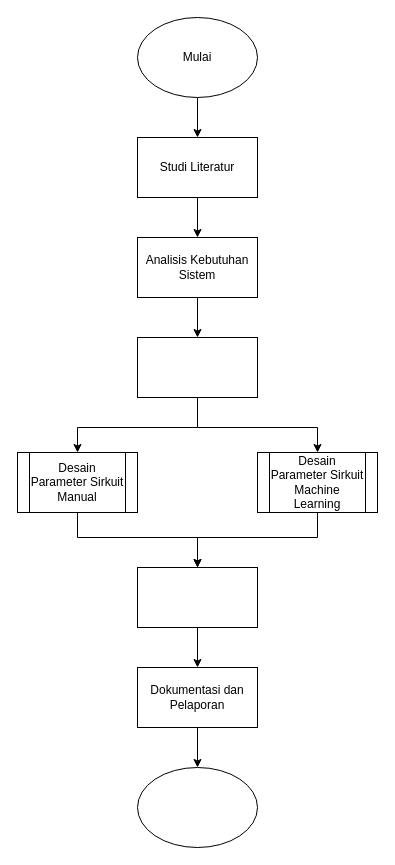
Some shapes in this 395 by 865 pixel diagram are drawn without their labels. Each missing label, with the centre of its shape:
Desain Parameter Sirkuit: point (197, 367)
Perbandingan dan Analisis Hasil: point (197, 597)
Selesai: point (197, 807)
